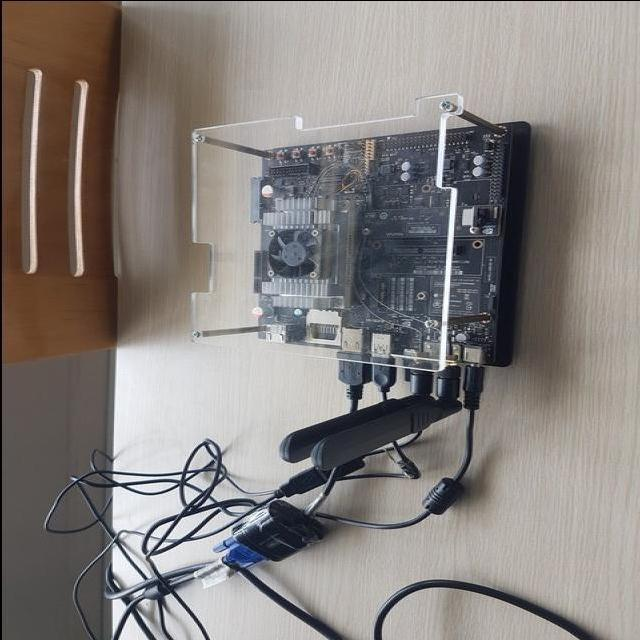Jetson TX2: (249, 103, 530, 496)
